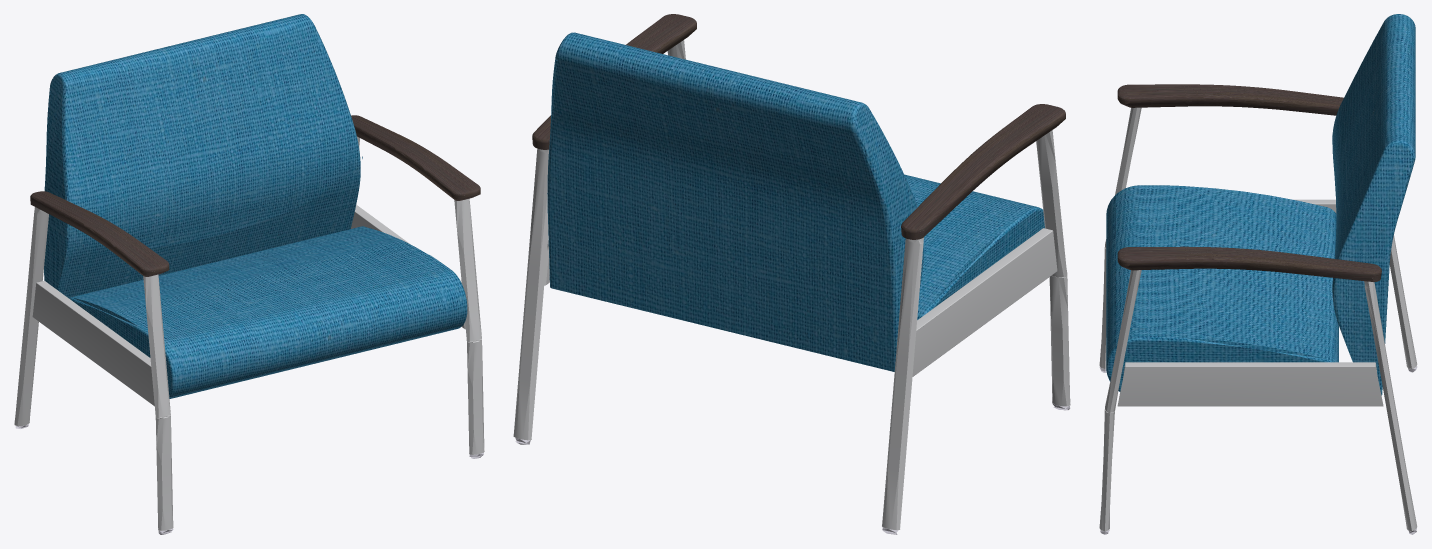
Rendered from chair2.gltf.
3 views of the same model, side by side, from view 1: azimuth 30°, elevation 25°; view 2: azimuth 150°, elevation 25°; view 3: azimuth 270°, elevation 25° (orthographic). The views are drawn at different scales.
Parts seen in each view (by area): view 1: 1b1984b2-24ee-4fbf-a3a0-4346f679ad31, 06bd91ee-3126-4401-a0b7-a98233c0cece, 7f8c5735-cf88-4450-9eea-5a9b3586a274; view 2: 1b1984b2-24ee-4fbf-a3a0-4346f679ad31, 06bd91ee-3126-4401-a0b7-a98233c0cece, 7f8c5735-cf88-4450-9eea-5a9b3586a274; view 3: 1b1984b2-24ee-4fbf-a3a0-4346f679ad31, 06bd91ee-3126-4401-a0b7-a98233c0cece, 7f8c5735-cf88-4450-9eea-5a9b3586a274.
Part boxes in pixels (x1,y1,x2,y2): 1b1984b2-24ee-4fbf-a3a0-4346f679ad31: [44, 14, 467, 398]; 06bd91ee-3126-4401-a0b7-a98233c0cece: [14, 136, 484, 530]; 7f8c5735-cf88-4450-9eea-5a9b3586a274: [30, 115, 480, 276]; 1b1984b2-24ee-4fbf-a3a0-4346f679ad31: [547, 32, 1044, 371]; 06bd91ee-3126-4401-a0b7-a98233c0cece: [513, 40, 1070, 530]; 7f8c5735-cf88-4450-9eea-5a9b3586a274: [532, 14, 1065, 239]; 1b1984b2-24ee-4fbf-a3a0-4346f679ad31: [1106, 14, 1415, 395]; 06bd91ee-3126-4401-a0b7-a98233c0cece: [1099, 107, 1417, 531]; 7f8c5735-cf88-4450-9eea-5a9b3586a274: [1117, 84, 1381, 281].
Bounding box in the file's own units: 0.8741 × 0.8624 × 0.664.
Materials: 4 (3 with a texture image).
